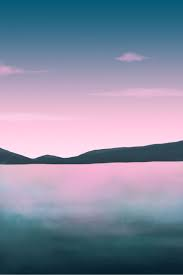lake: (3, 166, 183, 268)
sky: (2, 2, 183, 143)
